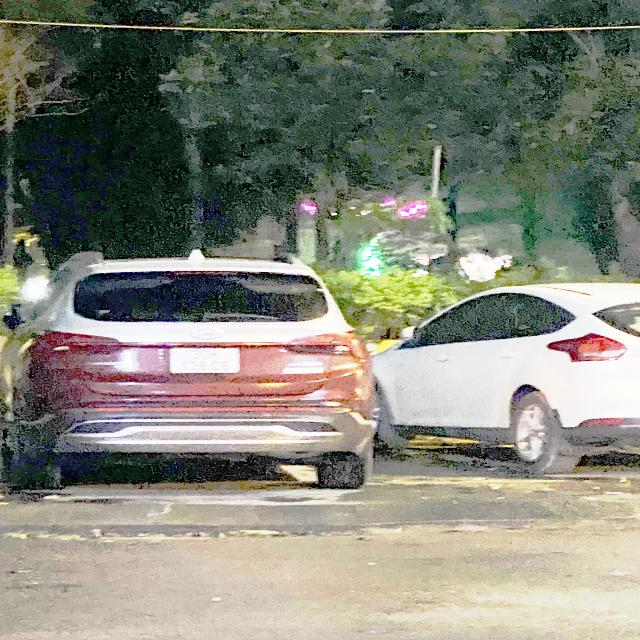license_plate: (168, 347, 243, 376)
